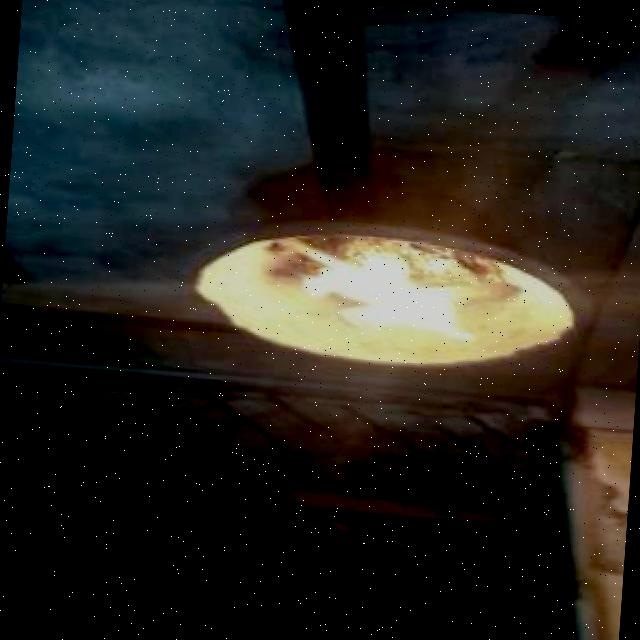fire: (241, 245, 482, 375)
